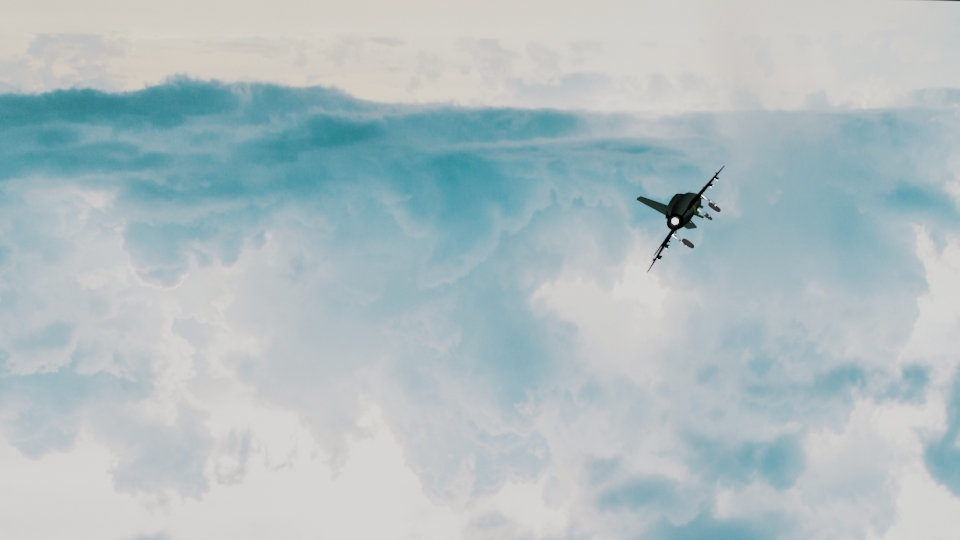plane: (633, 167, 726, 271)
